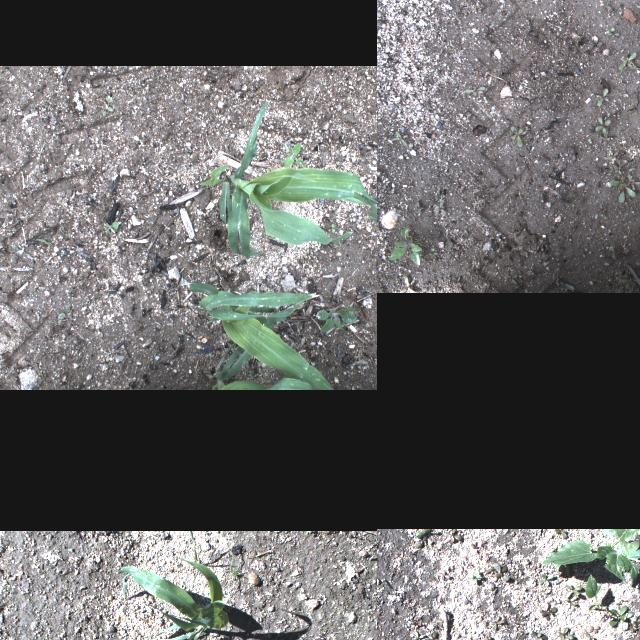crop: (198, 96, 377, 258), (187, 281, 339, 390), (117, 554, 228, 640), (542, 528, 640, 587), (209, 376, 374, 390), (585, 574, 601, 608)
weed: (390, 226, 422, 266), (316, 308, 358, 332), (610, 173, 640, 202), (608, 604, 636, 632), (284, 141, 310, 171), (230, 543, 242, 587), (189, 530, 199, 582), (564, 586, 584, 608), (509, 125, 528, 146), (535, 570, 557, 588), (554, 624, 576, 640), (491, 565, 512, 581), (413, 530, 437, 544), (618, 51, 636, 69), (443, 529, 465, 543), (398, 276, 416, 292), (595, 116, 611, 134), (467, 571, 487, 585), (464, 84, 486, 96), (392, 130, 408, 146), (541, 602, 557, 618), (595, 88, 609, 106), (102, 95, 114, 115), (614, 280, 636, 290), (553, 528, 575, 538), (489, 617, 506, 629), (468, 538, 488, 548), (530, 629, 546, 640), (425, 631, 444, 640), (106, 222, 120, 234), (434, 202, 446, 216), (582, 631, 600, 640), (436, 570, 452, 580), (412, 628, 423, 640), (506, 274, 518, 284), (607, 150, 619, 160), (416, 201, 424, 213), (614, 164, 622, 176), (609, 245, 615, 259), (589, 625, 601, 631), (626, 166, 634, 174), (606, 27, 616, 33), (601, 171, 611, 177), (432, 247, 438, 255), (608, 32, 620, 36), (636, 0, 640, 9), (588, 137, 592, 143), (438, 189, 440, 195)
